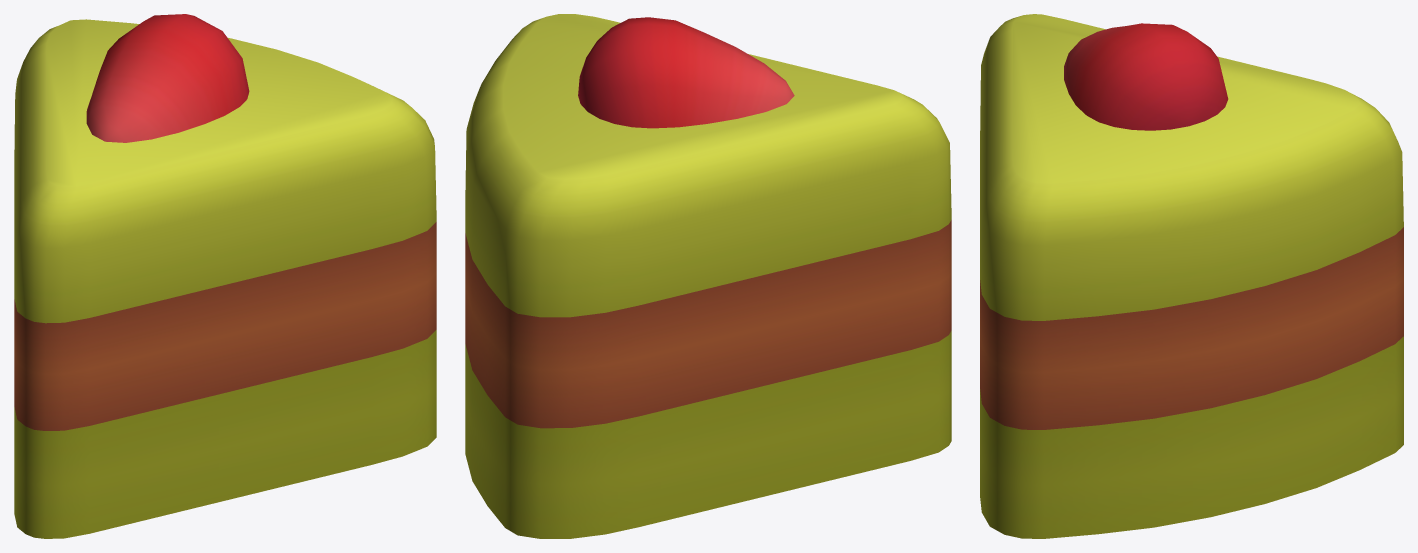
Rendered from cake08_slice.FBX.
3 views of the same model, side by side, from view 1: azimuth 30°, elevation 25°; view 2: azimuth 150°, elevation 25°; view 3: azimuth 270°, elevation 25° (orthographic). The views are drawn at different scales.
Parts seen in each view (by area): view 1: cake08_slice; view 2: cake08_slice; view 3: cake08_slice.
Part boxes in pixels (x1,y1,x2,y2): cake08_slice: (14, 14, 436, 538); cake08_slice: (465, 14, 951, 538); cake08_slice: (980, 14, 1403, 538).
Size of the model in its own units: 0.00902 by 0.00846 by 0.00787.
